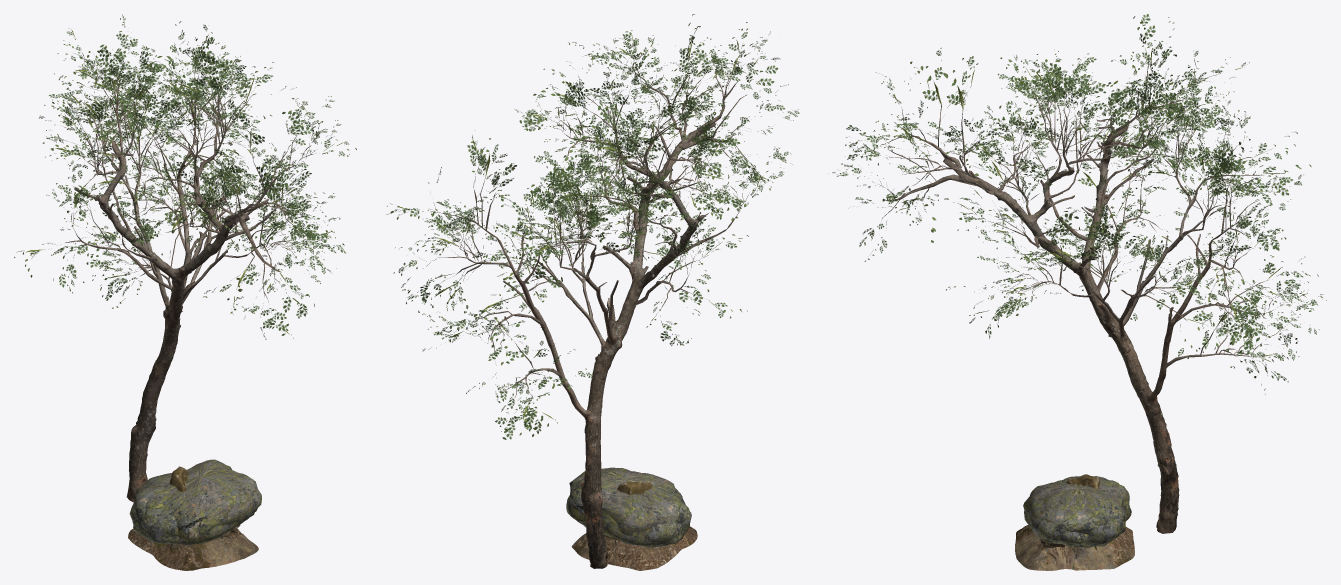
The model's file is nature-kit-v9.glb.
3 renders of one model, left to right at view 1: azimuth 30°, elevation 25°; view 2: azimuth 150°, elevation 25°; view 3: azimuth 270°, elevation 25°, orthographic.
Parts seen in each view (by area): view 1: forest_tree_0_leaves, forest_tree_0_bark, forest_tree_0_bark.001, forest_ledge_1_surface, forest_ledge_0_surface, forest_rootwood_0_bark, forest_ledge_2_surface; view 2: forest_tree_0_leaves, forest_tree_0_bark, forest_tree_0_bark.001, forest_ledge_1_surface, forest_rootwood_0_bark, forest_ledge_2_surface, forest_ledge_0_surface; view 3: forest_tree_0_leaves, forest_tree_0_bark, forest_tree_0_bark.001, forest_rootwood_0_bark, forest_ledge_1_surface, forest_ledge_0_surface, forest_ledge_2_surface.
Boxes of the visible parts, box(x1,y1,x2,y2) form: forest_tree_0_leaves: box(14, 14, 356, 339); forest_tree_0_bark: box(74, 140, 268, 502); forest_tree_0_bark.001: box(48, 35, 327, 312); forest_ledge_1_surface: box(129, 470, 261, 545); forest_ledge_0_surface: box(133, 459, 255, 543); forest_rootwood_0_bark: box(128, 528, 258, 570); forest_ledge_2_surface: box(132, 462, 256, 544); forest_tree_0_leaves: box(386, 14, 799, 439); forest_tree_0_bark: box(498, 123, 716, 568); forest_tree_0_bark.001: box(420, 43, 775, 413); forest_ledge_1_surface: box(566, 467, 689, 547); forest_rootwood_0_bark: box(571, 526, 697, 570); forest_ledge_2_surface: box(570, 470, 685, 545); forest_ledge_0_surface: box(570, 468, 691, 546); forest_tree_0_leaves: box(828, 14, 1326, 394); forest_tree_0_bark: box(943, 119, 1211, 533); forest_tree_0_bark.001: box(853, 47, 1298, 368); forest_rootwood_0_bark: box(1015, 525, 1134, 570); forest_ledge_1_surface: box(1023, 476, 1126, 546); forest_ledge_0_surface: box(1024, 476, 1131, 547); forest_ledge_2_surface: box(1029, 482, 1129, 544).
Bounding box in the file's own units: 4.45 × 7.19 × 6.59.
8 materials, 8 textured.
